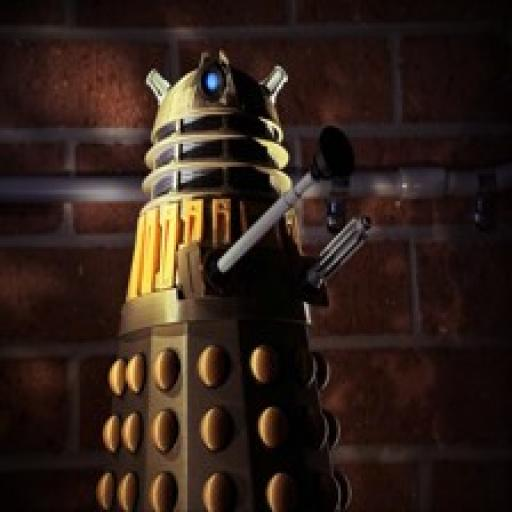dalek: (76, 52, 375, 512)
